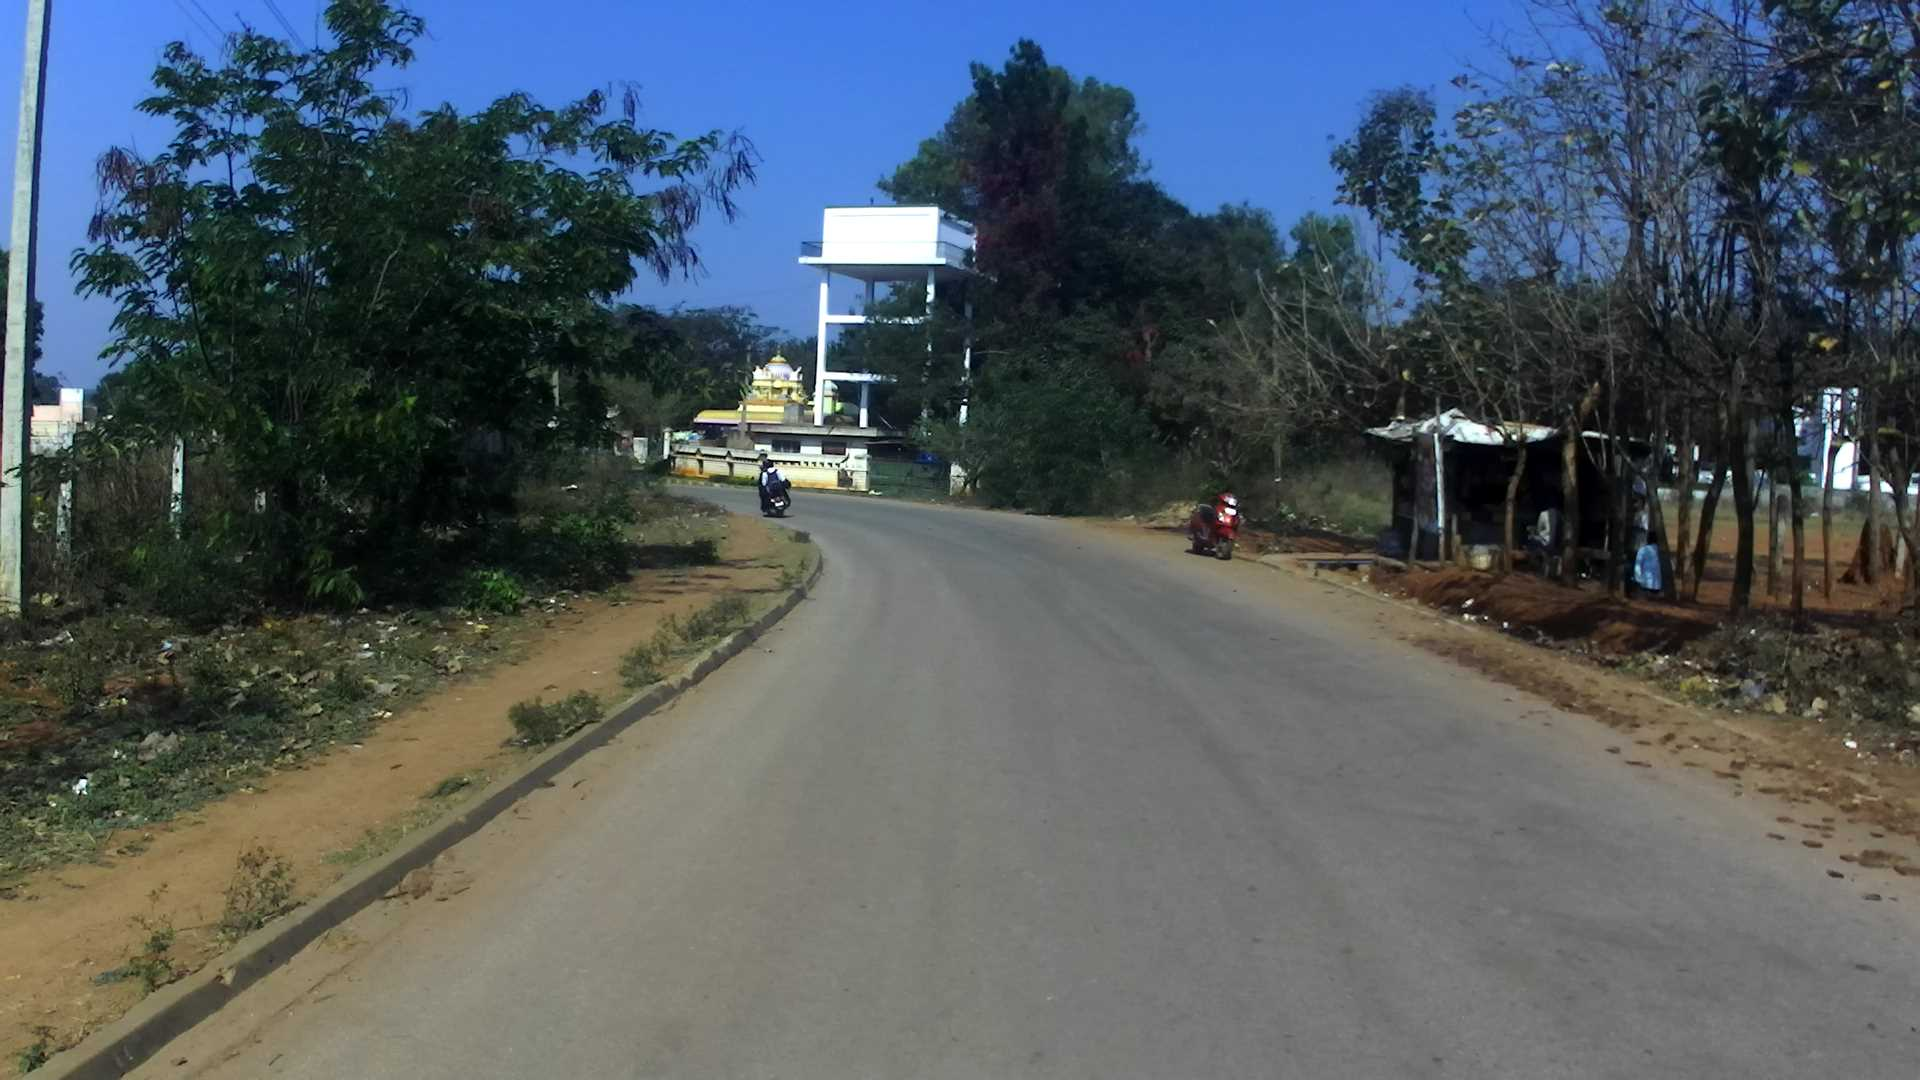bike: (1166, 469, 1274, 567), (742, 442, 815, 535)
